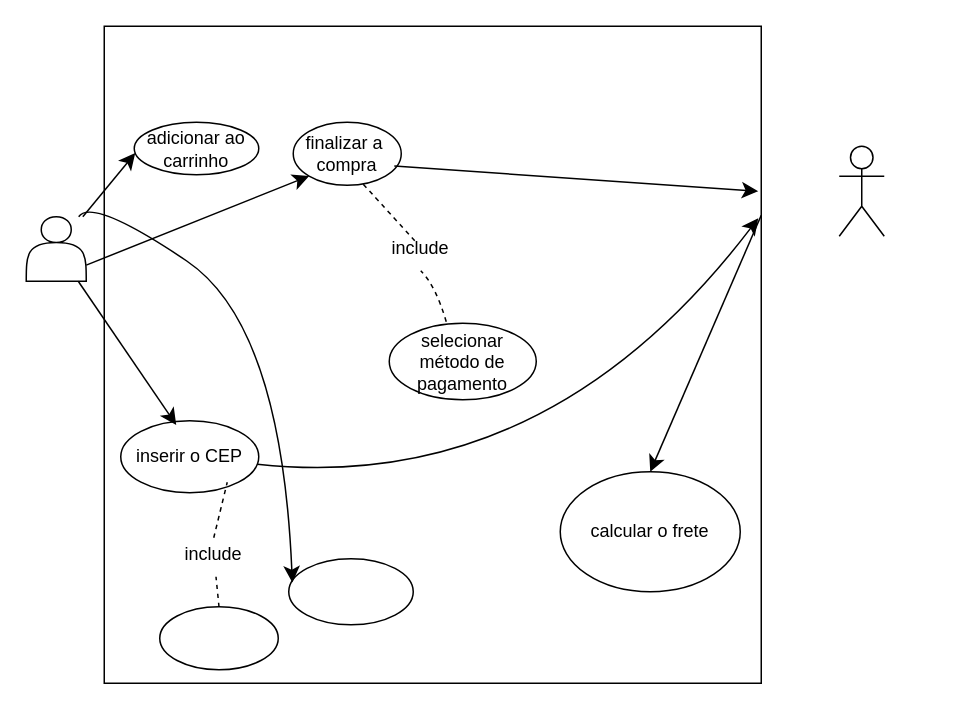
Image size: 980x710. Some labels were removed from this diagram. The shapes that lost their labels are listed below. From the top down, each one's centre as x and y in pixels, then its label:
the point at 861,190: Sistema de pagamento
the point at 350,591: avaliar o produto
the point at 218,637: verificar o CEP
